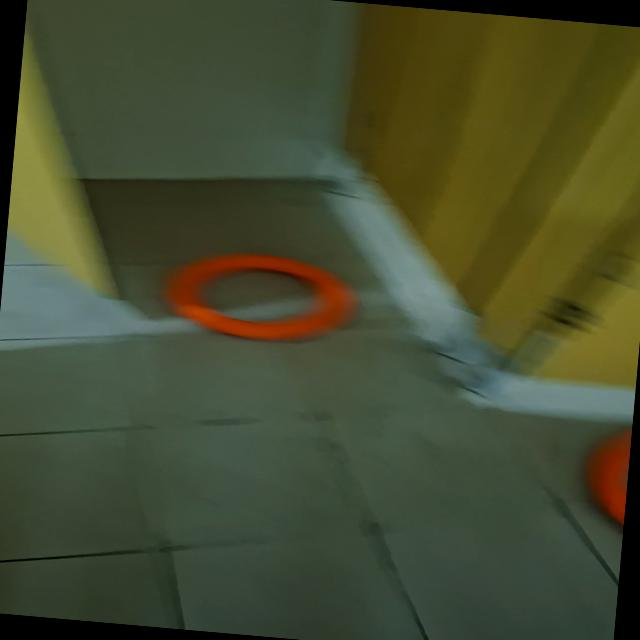note: (159, 244, 362, 349), (579, 424, 630, 526)
